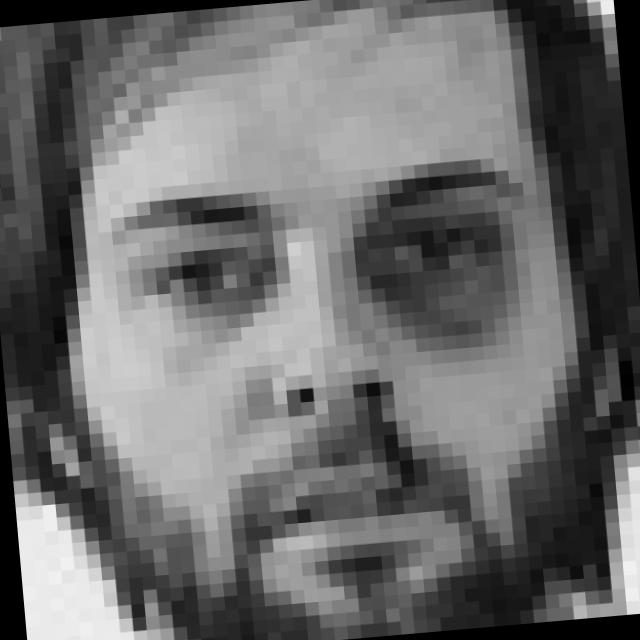neutral: (91, 137, 574, 602)
